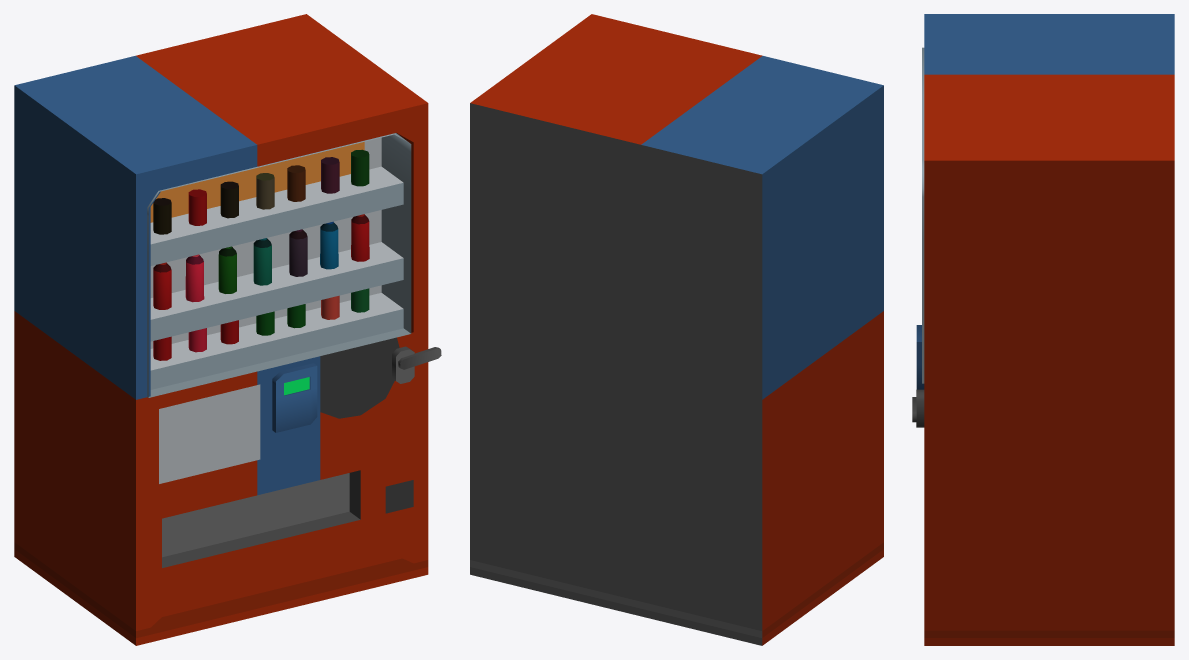
Rendered from VendingMachine_Full.fbx.
The picture shows the model from 3 angles, left to right: view 1: azimuth 30°, elevation 25°; view 2: azimuth 150°, elevation 25°; view 3: azimuth 270°, elevation 25°; orthographic projection. The views are drawn at different scales.
Parts seen in each view (by area): view 1: VendingMachine_Full; view 2: VendingMachine_Full; view 3: VendingMachine_Full.
Boxes of the visible parts, x1,y1,x2,y2 form: VendingMachine_Full: (14,14,441,645); VendingMachine_Full: (470,14,883,645); VendingMachine_Full: (912,14,1174,645).
Size of the model in its own units: 141 by 212 by 104.
